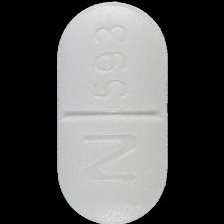49999-206: (0, 0, 224, 224)
